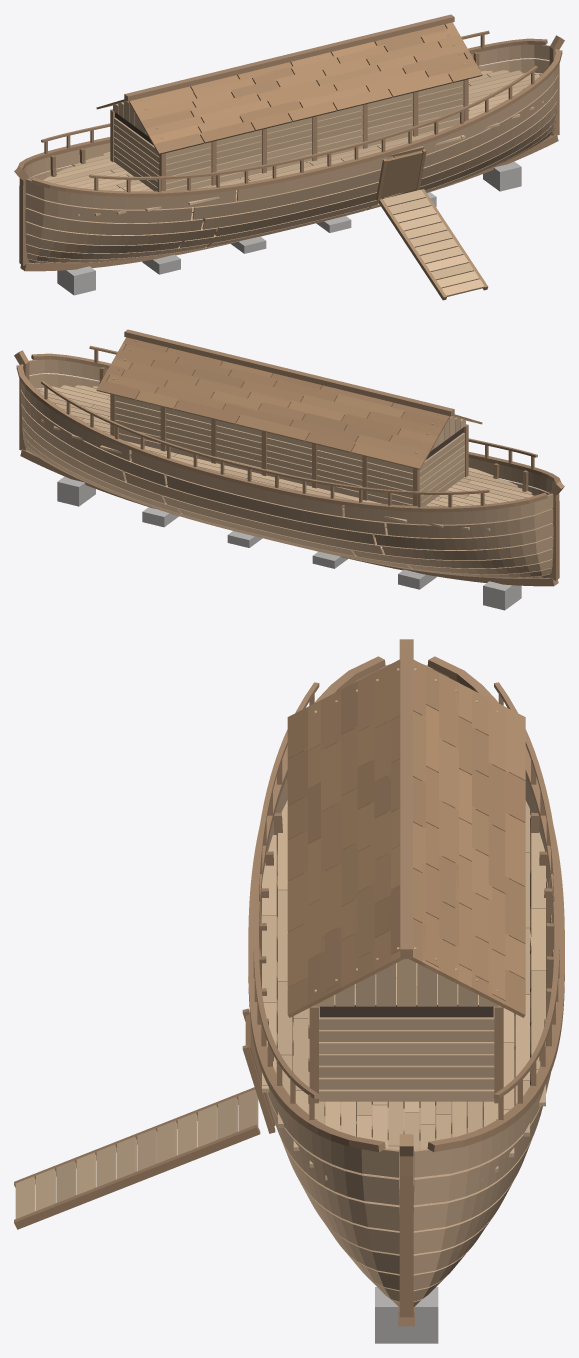
Rendered from ark.glb.
3 views of the same model, one above another, from view 1: azimuth 30°, elevation 25°; view 2: azimuth 150°, elevation 25°; view 3: azimuth 270°, elevation 25° (orthographic). The views are drawn at different scales.
Parts seen in each view (by area): view 1: Stage2, Stage5, Stage4, Stage1; view 2: Stage2, Stage5, Stage4, Stage1; view 3: Stage5, Stage4, Stage2, Stage1.
Boxes of the visible parts, <box> form: Stage2: <box>17,38,562,263</box>; Stage5: <box>96,14,488,300</box>; Stage4: <box>41,30,543,216</box>; Stage1: <box>14,35,564,295</box>; Stage2: <box>16,353,561,578</box>; Stage5: <box>96,329,482,469</box>; Stage4: <box>33,345,537,531</box>; Stage1: <box>14,350,564,610</box>; Stage5: <box>14,648,525,1229</box>; Stage4: <box>253,682,559,1188</box>; Stage2: <box>248,656,564,1306</box>; Stage1: <box>259,639,554,1343</box>.
Bounding box in the file's own units: 22.62 × 7.18 × 10.44.
